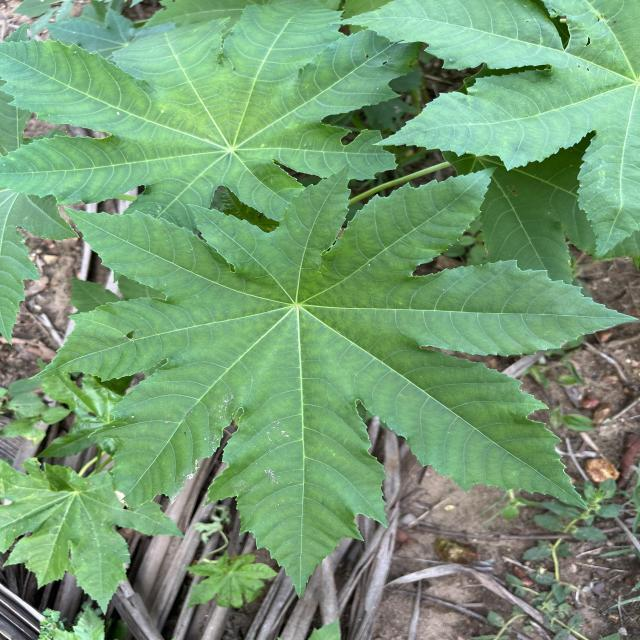Ricinus communis linn: (23, 157, 640, 604)
